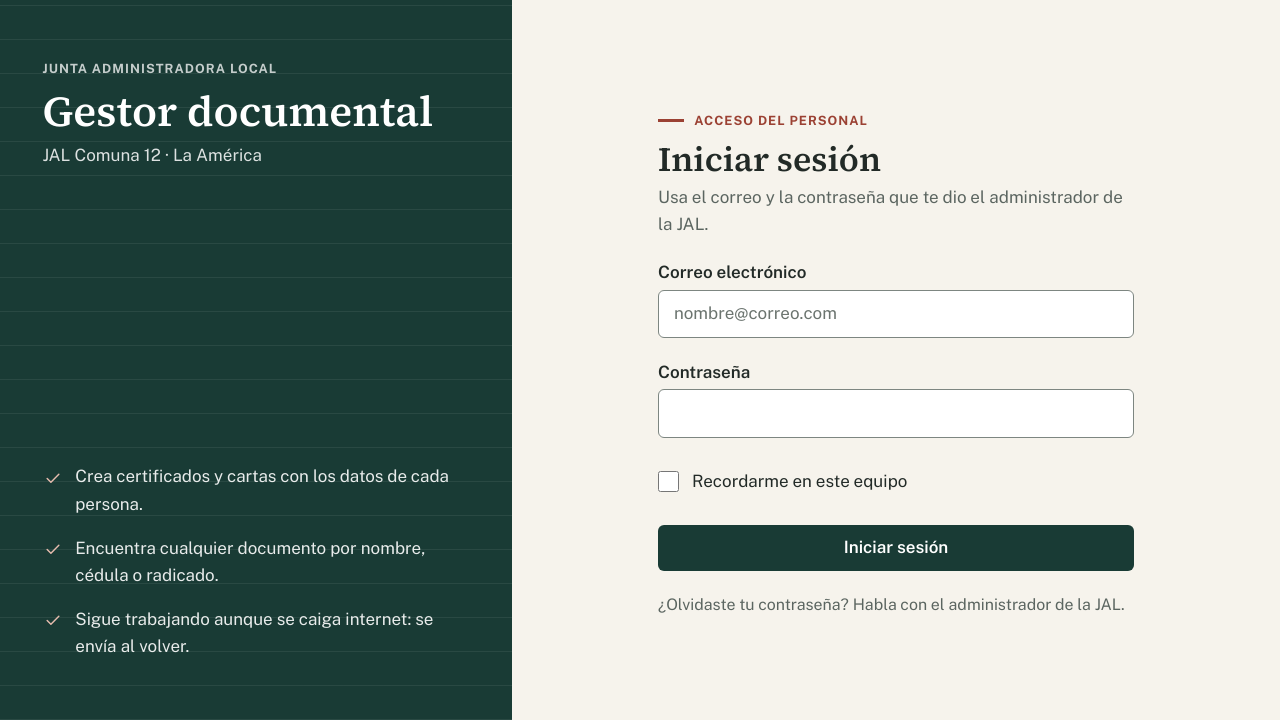
Test: LoginPage — envío de credenciales › marca los campos requeridos como inválidos si se envía el formulario vacío
Click the button "Iniciar sesión".
click(896, 548)  # box x1=658 y1=525 x2=1134 y2=571
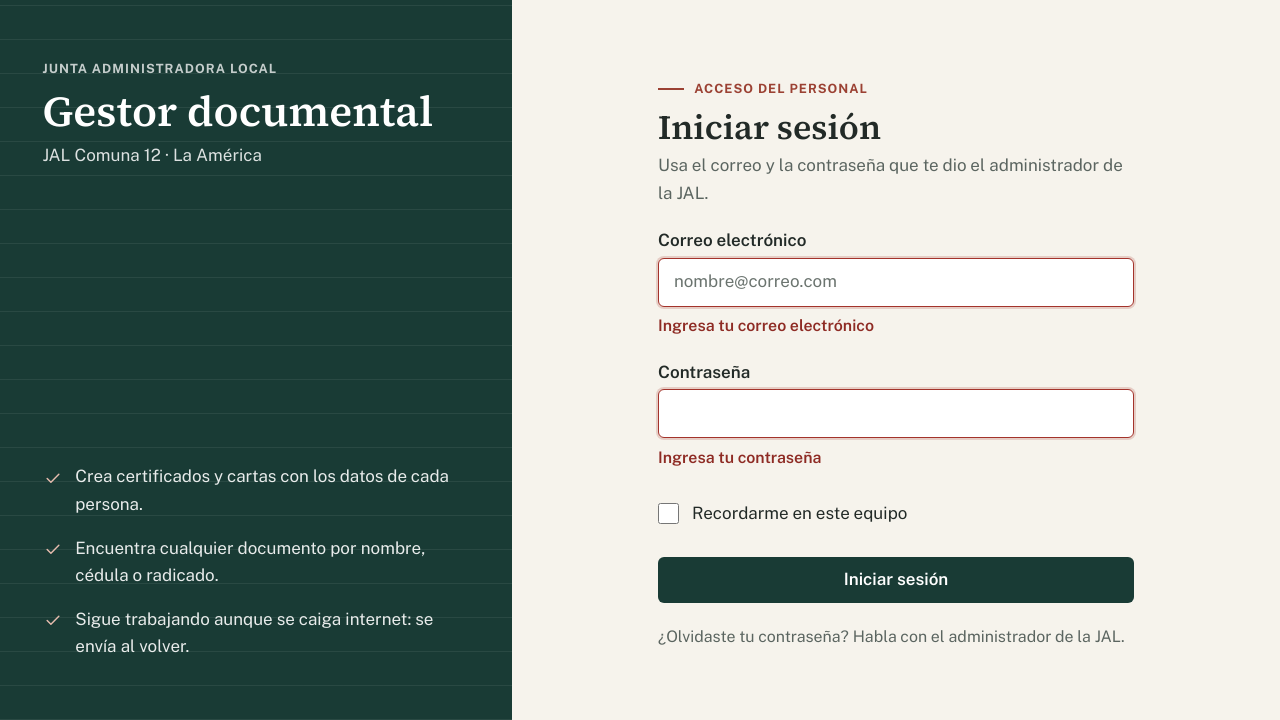
Now the text "Ingresa tu correo electrónico" is shown, box x1=658 y1=316 x2=874 y2=335
Now the text "Ingresa tu contraseña" is shown, box x1=658 y1=448 x2=821 y2=466
